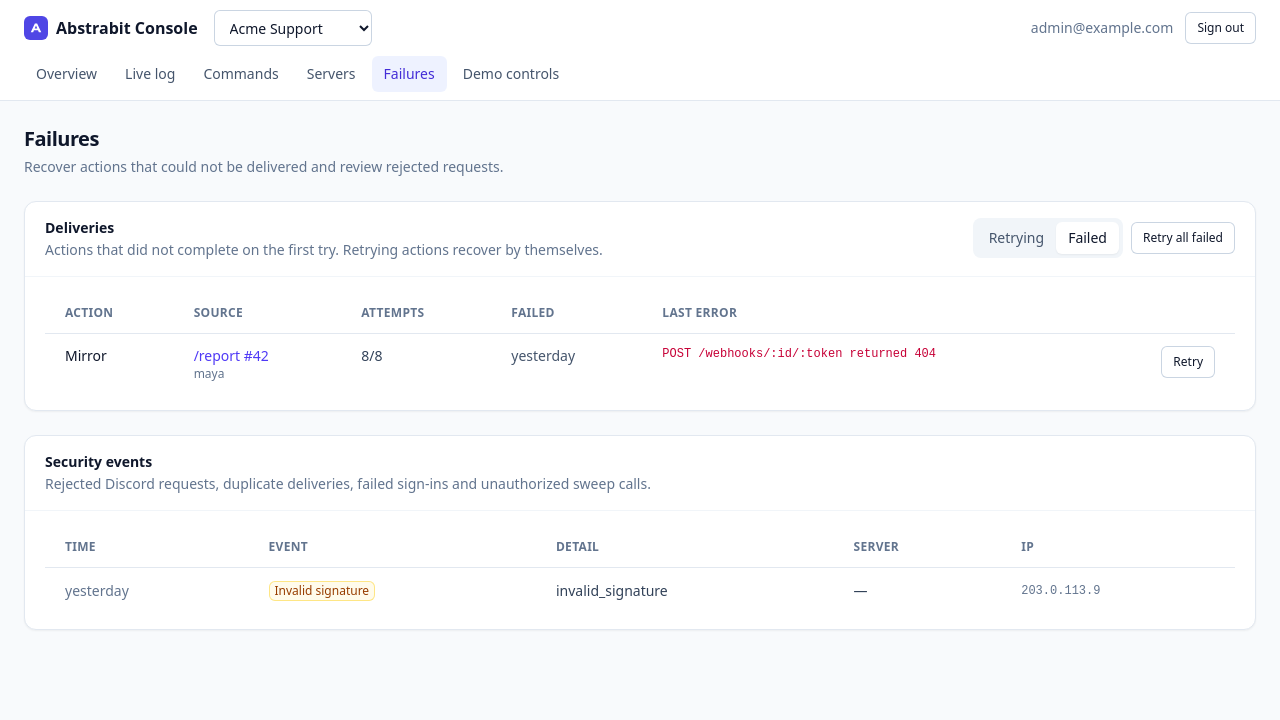
dashboard › retries a failed delivery from the failures page
Expected: the text "POST /webhooks/:id/:token returned 404" is shown, [642, 334, 1099, 394]
Expected: the text "Invalid signature" is shown, [268, 581, 375, 601]
Click the button "Retry all failed": click(1183, 238) [1131, 222, 1235, 254]
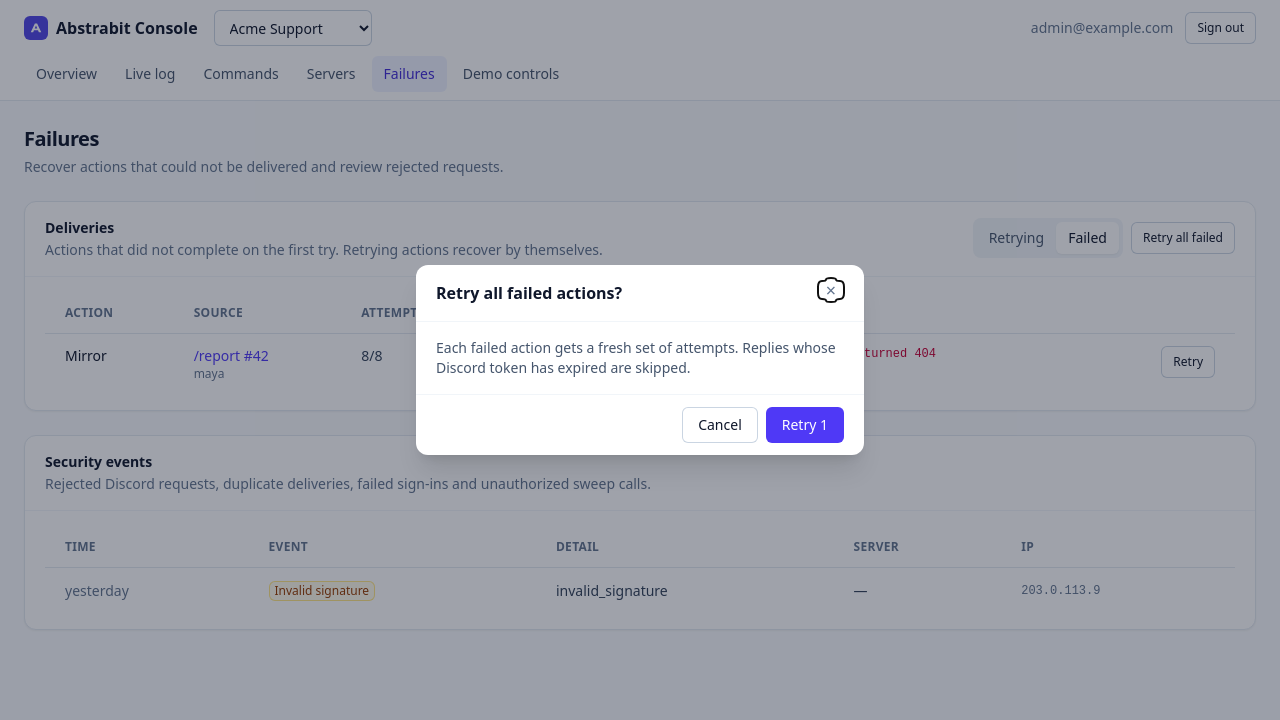
Click the button "Retry 1": click(805, 425) [766, 407, 844, 443]
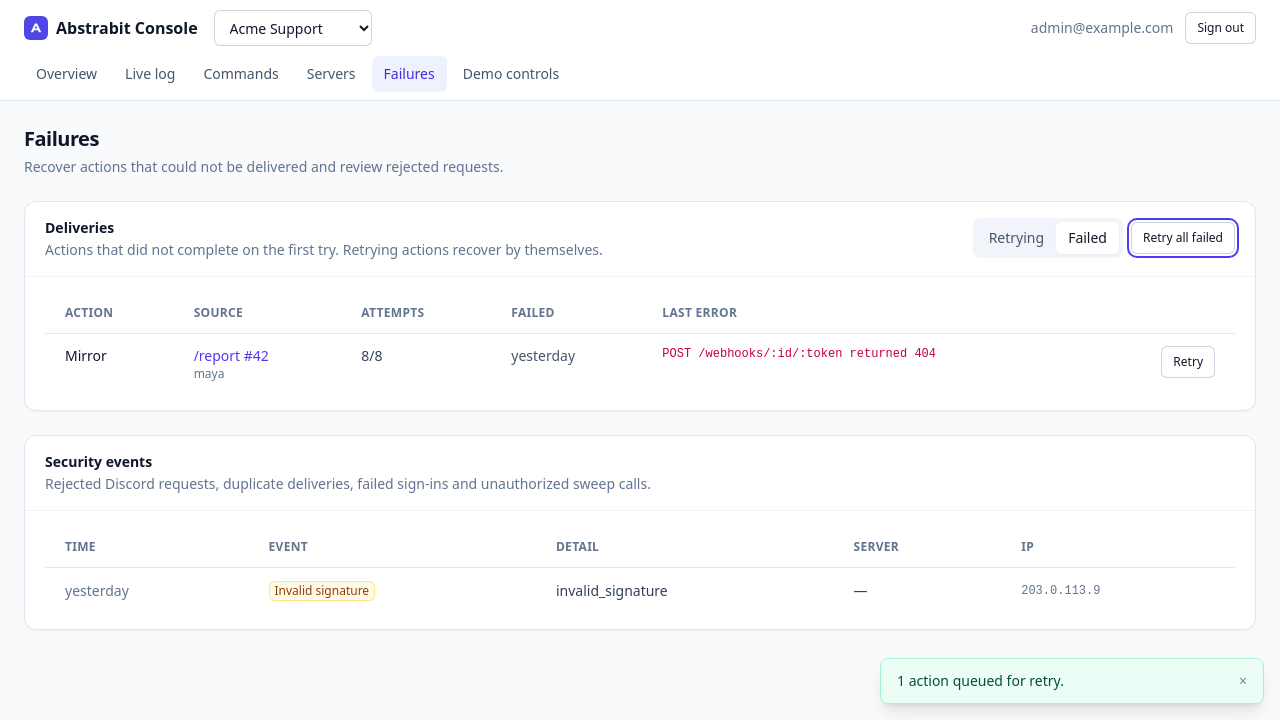
Expected: the text "1 action queued for retry." is shown, [897, 671, 1064, 690]
